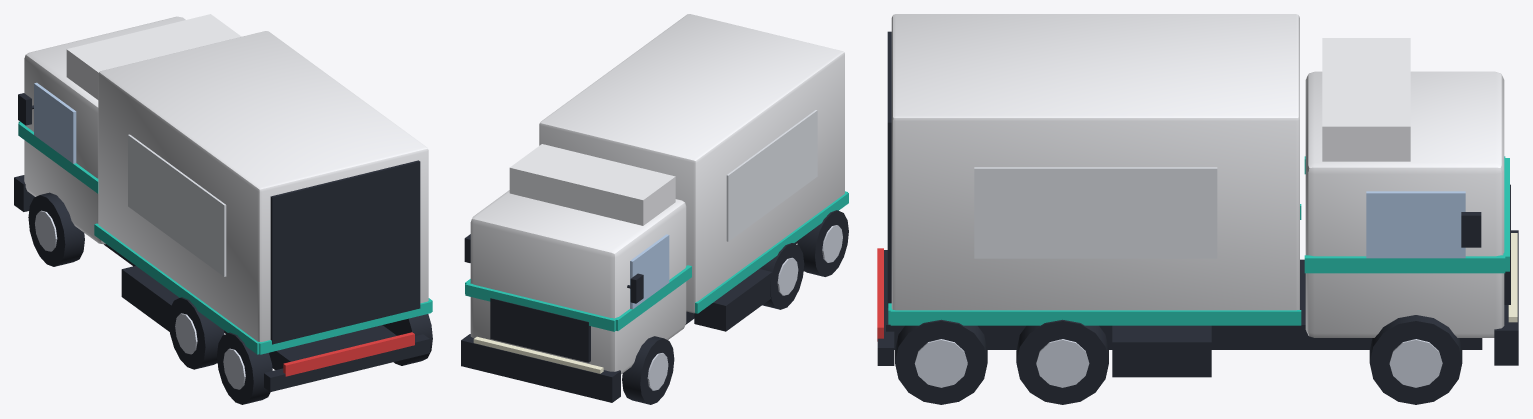
The model's file is truck_box_partner.glb.
3 views of the same model, side by side, from view 1: azimuth 30°, elevation 25°; view 2: azimuth 150°, elevation 25°; view 3: azimuth 270°, elevation 25° (orthographic). The views are drawn at different scales.
Parts seen in each view (by area): view 1: TruckPartner_CargoBox, TruckPartner_RearDoorFrame, TruckPartner_Cab, TruckPartner_LogoPanel_L, TruckPartner_AeroCap, Wheel_FL, TruckPartner_SideWindow_L, TruckPartner_RearBumper, TruckPartner_BottomStripe_L, Wheel_RL, Wheel_ML, TruckPartner_FuelTank_L (+10 smaller); view 2: TruckPartner_CargoBox, TruckPartner_Cab, TruckPartner_AeroCap, TruckPartner_LogoPanel_L, TruckPartner_FrontBumper, TruckPartner_Grille, TruckPartner_FuelTank_L, Wheel_FL, TruckPartner_BottomStripe_L, Wheel_RL, TruckPartner_SideWindow_L, TruckPartner_TealStripe_Front (+7 smaller); view 3: TruckPartner_CargoBox, TruckPartner_Cab, TruckPartner_LogoPanel_R, TruckPartner_AeroCap, TruckPartner_SideWindow_R, TruckPartner_BottomStripe_R, TruckPartner_BatteryBox_R, TruckPartner_Chassis, Wheel_FR, Wheel_MR, Wheel_RR, TruckPartner_TealStripe_R (+10 smaller).
Boxes of the visible parts, left/top/right/bottom form: TruckPartner_CargoBox: left=98, top=31, right=428, bottom=341; TruckPartner_RearDoorFrame: left=270, top=160, right=420, bottom=344; TruckPartner_Cab: left=24, top=16, right=185, bottom=244; TruckPartner_LogoPanel_L: left=128, top=134, right=226, bottom=276; TruckPartner_AeroCap: left=66, top=14, right=241, bottom=99; Wheel_FL: left=28, top=192, right=84, bottom=266; TruckPartner_SideWindow_L: left=34, top=82, right=76, bottom=163; TruckPartner_RearBumper: left=264, top=334, right=429, bottom=391; TruckPartner_BottomStripe_L: left=94, top=223, right=259, bottom=354; Wheel_RL: left=217, top=332, right=272, bottom=404; Wheel_ML: left=168, top=297, right=224, bottom=369; TruckPartner_FuelTank_L: left=121, top=266, right=179, bottom=331; TruckPartner_CargoBox: left=539, top=14, right=844, bottom=313; TruckPartner_Cab: left=470, top=190, right=686, bottom=374; TruckPartner_AeroCap: left=509, top=144, right=675, bottom=225; TruckPartner_LogoPanel_L: left=726, top=110, right=817, bottom=241; TruckPartner_FrontBumper: left=461, top=334, right=620, bottom=402; TruckPartner_Grille: left=490, top=298, right=590, bottom=362; TruckPartner_FuelTank_L: left=694, top=269, right=772, bottom=331; Wheel_FL: left=622, top=336, right=674, bottom=404; TruckPartner_BottomStripe_L: left=695, top=192, right=848, bottom=313; Wheel_RL: left=797, top=210, right=848, bottom=276; TruckPartner_SideWindow_L: left=630, top=234, right=669, bottom=309; TruckPartner_TealStripe_Front: left=465, top=283, right=616, bottom=331; TruckPartner_CargoBox: left=891, top=14, right=1299, bottom=310; TruckPartner_Cab: left=1305, top=71, right=1504, bottom=337; TruckPartner_LogoPanel_R: left=974, top=167, right=1217, bottom=258; TruckPartner_AeroCap: left=1322, top=38, right=1410, bottom=161; TruckPartner_SideWindow_R: left=1366, top=191, right=1465, bottom=258; TruckPartner_BottomStripe_R: left=890, top=310, right=1301, bottom=325; TruckPartner_BatteryBox_R: left=1112, top=325, right=1211, bottom=377; TruckPartner_Chassis: left=886, top=259, right=1482, bottom=349; Wheel_FR: left=1369, top=315, right=1462, bottom=404; Wheel_MR: left=1016, top=319, right=1108, bottom=404; Wheel_RR: left=895, top=319, right=987, bottom=404; TruckPartner_TealStripe_R: left=1304, top=255, right=1505, bottom=273.
Size of the model in its own units: 2.44 by 2.85 by 5.81.
